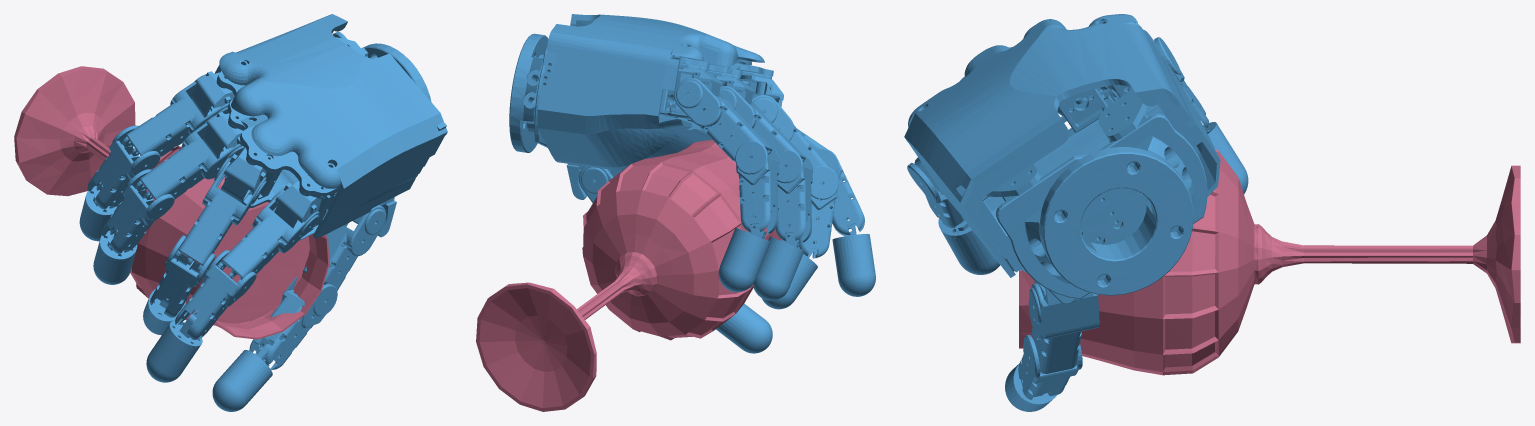
3 renders of one model, left to right at view 1: azimuth 30°, elevation 25°; view 2: azimuth 150°, elevation 25°; view 3: azimuth 270°, elevation 25°, orthographic. The views are drawn at different scales.
Parts seen in each view (by area): view 1: 0; view 2: 0; view 3: 0.
Boxes of the visible parts, <box> form: 0: <box>14,14,447,411</box>; 0: <box>476,14,875,411</box>; 0: <box>904,14,1520,411</box>.
Bounding box in the file's own units: 0.1881 × 0.1868 × 0.2495.
